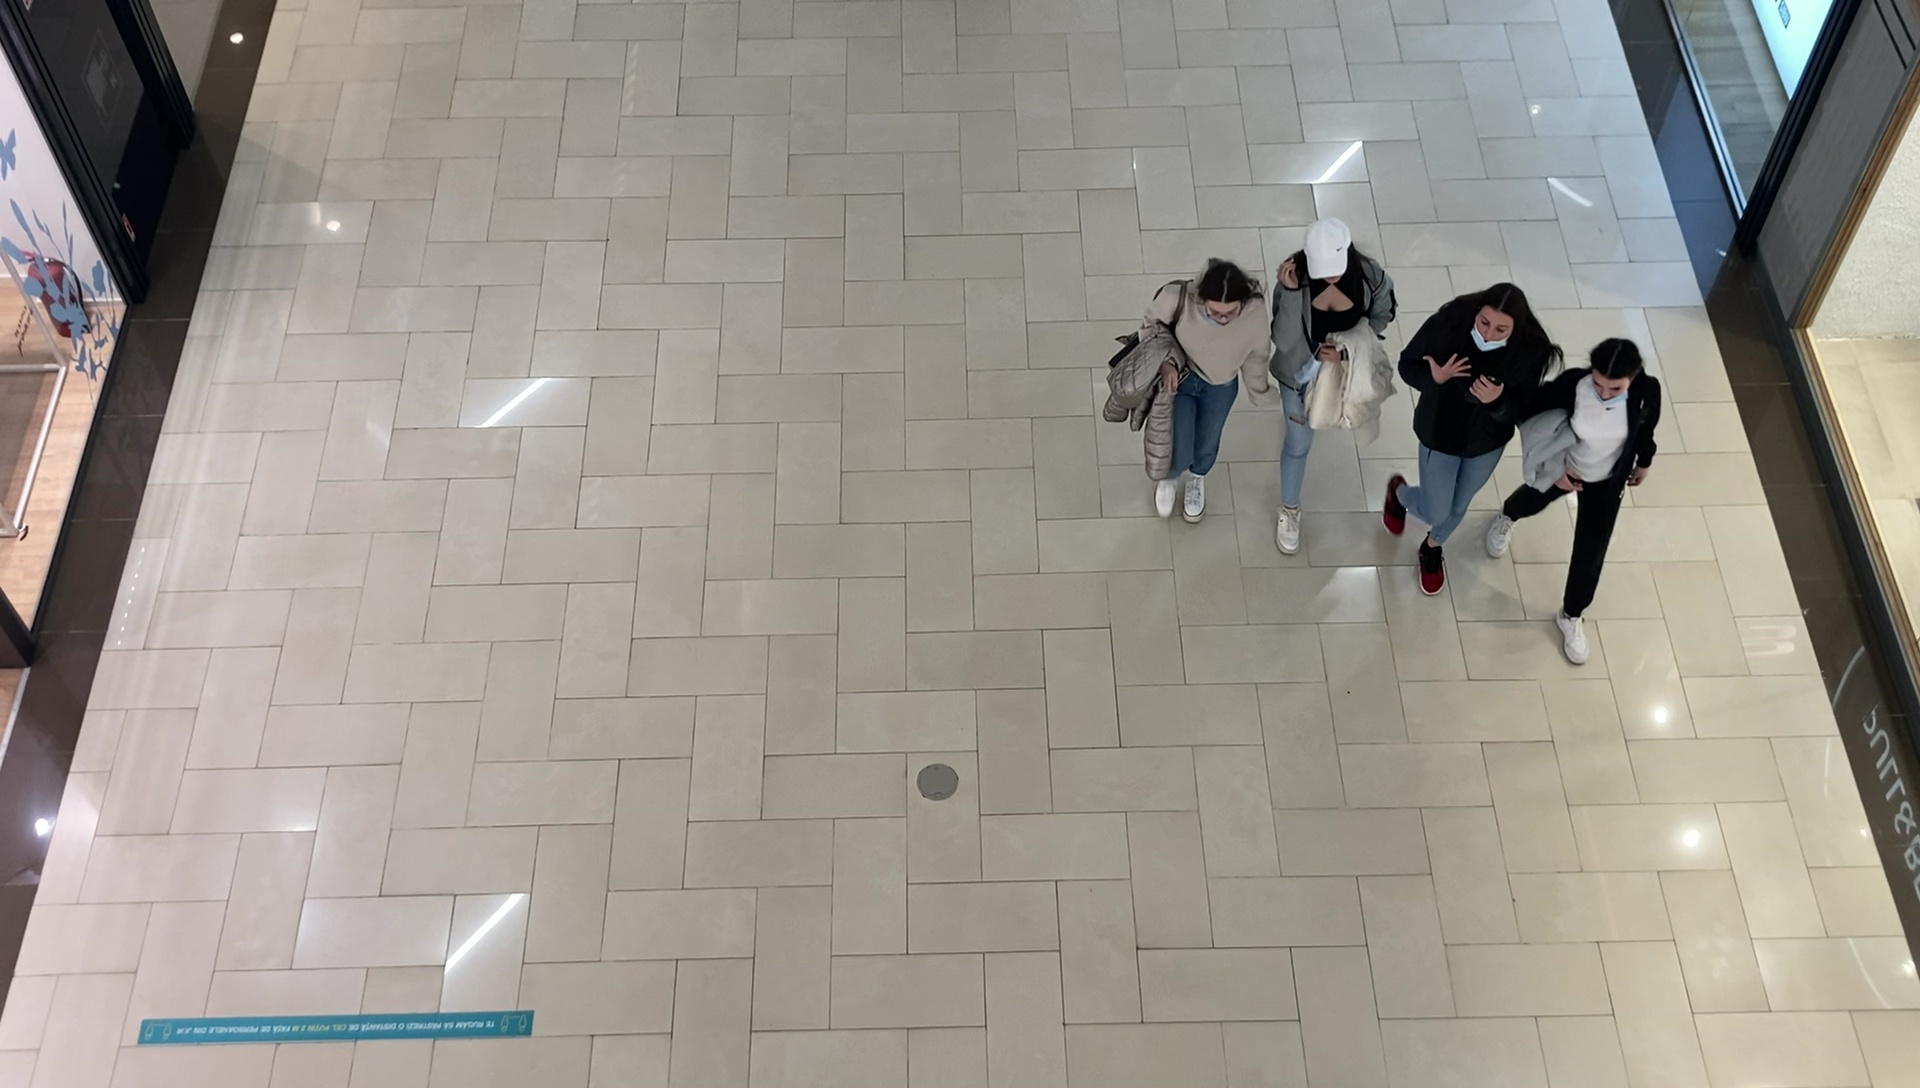person: (1521, 336, 1661, 669), (1106, 258, 1271, 525), (1275, 219, 1396, 557), (1396, 282, 1515, 599)
